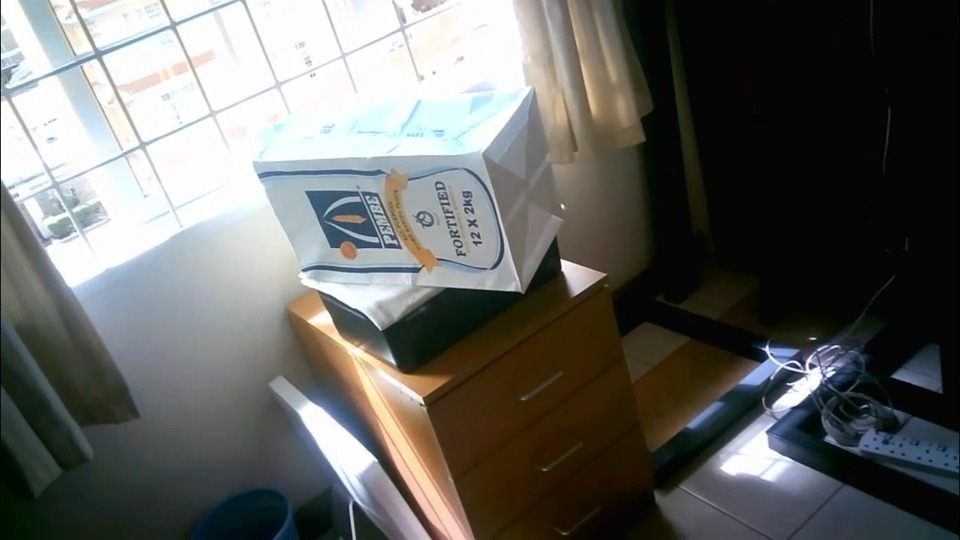wheat_flour_blue_label: (251, 86, 567, 291)
